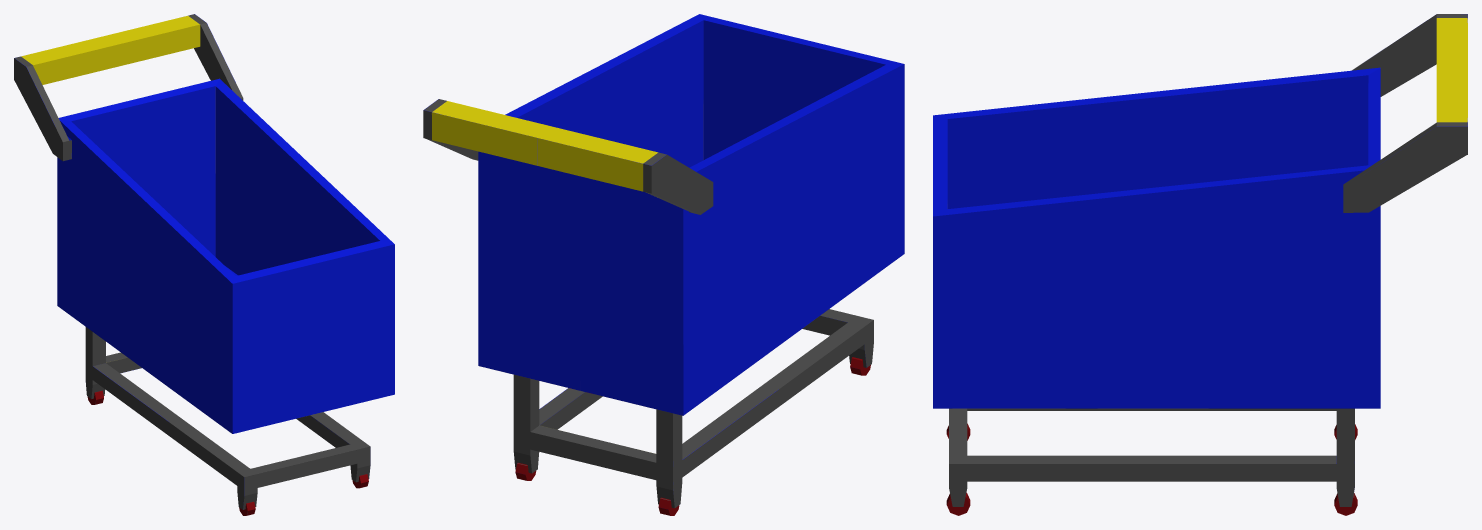
File: Trolley_Mesh.fbx
3 views of the same model, side by side, from view 1: azimuth 30°, elevation 25°; view 2: azimuth 150°, elevation 25°; view 3: azimuth 270°, elevation 25° (orthographic). The views are drawn at different scales.
Parts seen in each view (by area): view 1: TRolley.Player; view 2: TRolley.Player; view 3: TRolley.Player.
Part boxes in pixels (box(x1,y1,x2,y2)): TRolley.Player: box(14, 14, 394, 515); TRolley.Player: box(423, 14, 904, 515); TRolley.Player: box(933, 14, 1467, 515).
Bounding box in the file's own units: 2.48 × 4.19 × 4.98.
